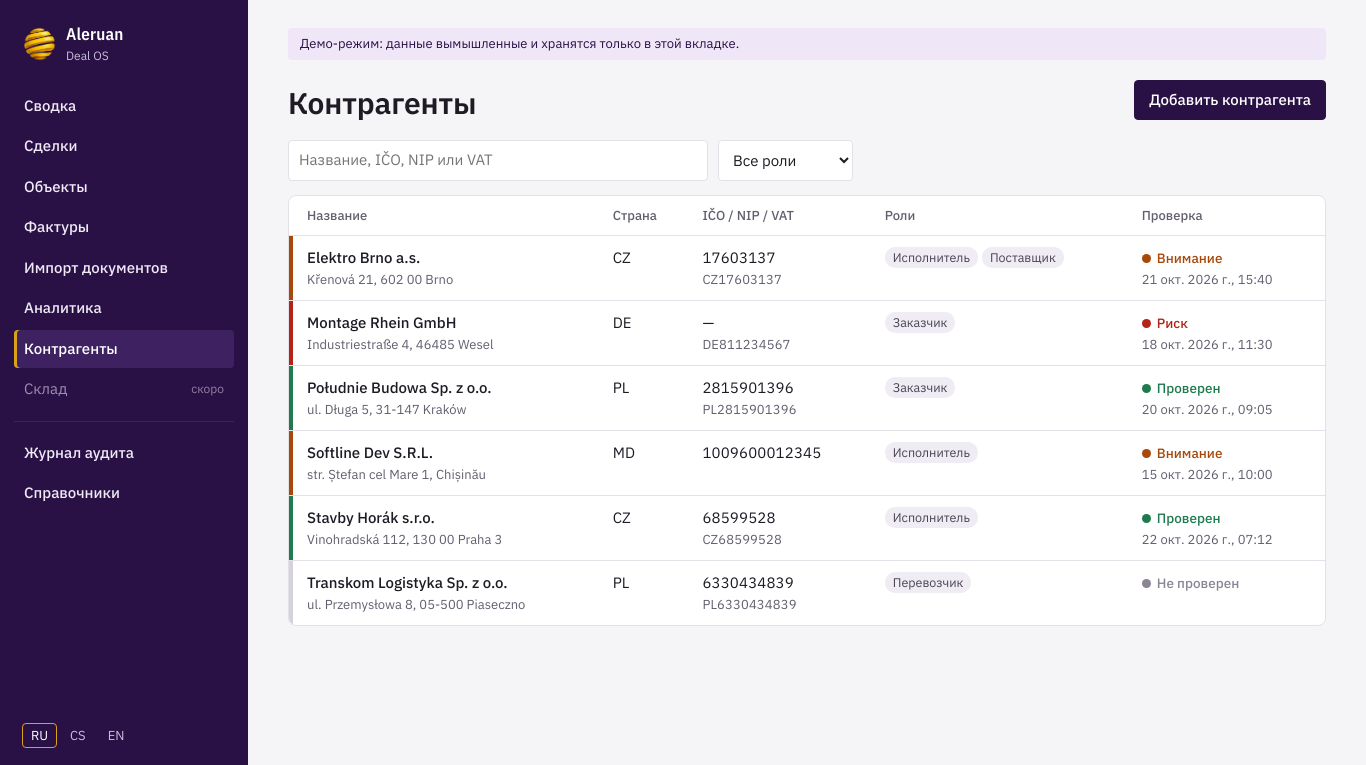
app screens on demo data › detail: runs a check and an account check, both land in history
Click the link "Stavby Horák s.r.o." at (371, 518), box [307, 508, 435, 527]
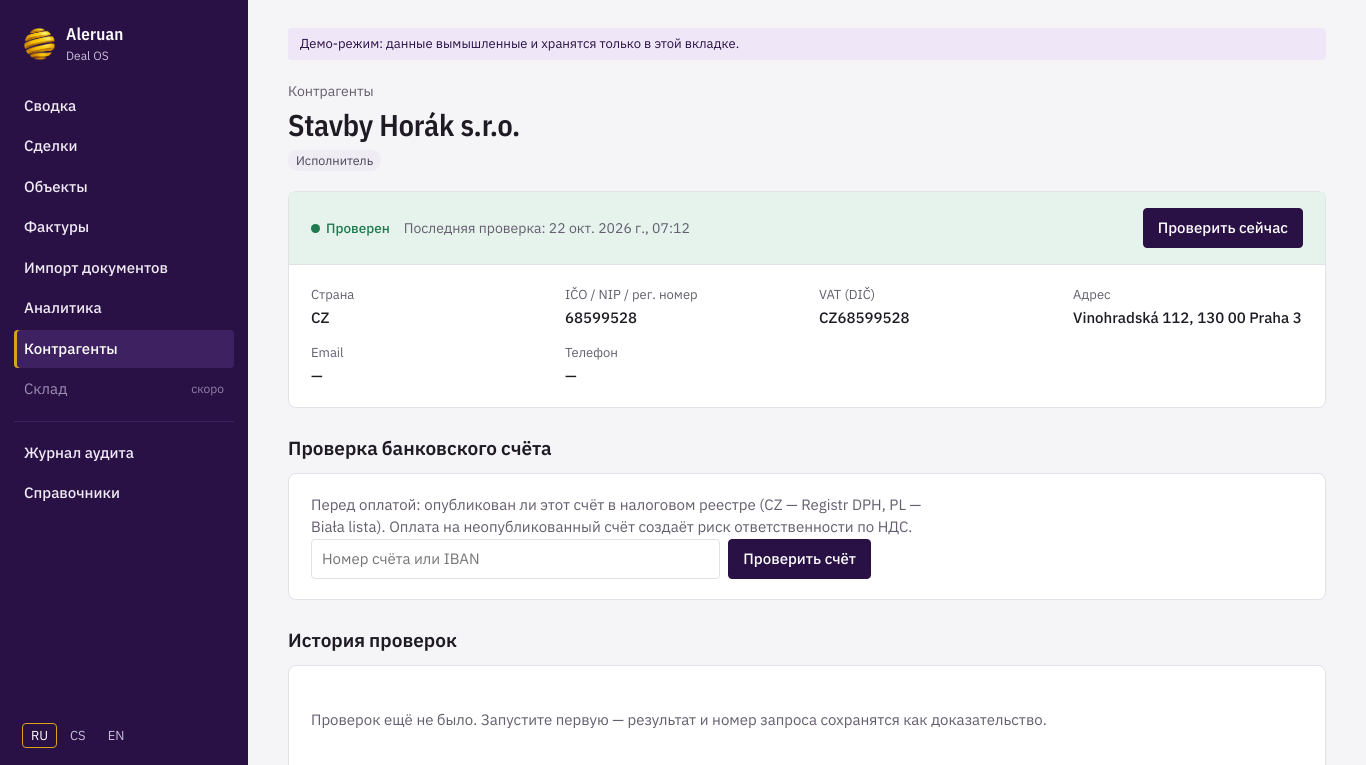
Click the button "Проверить сейчас" at (1223, 228), box [1143, 208, 1303, 248]
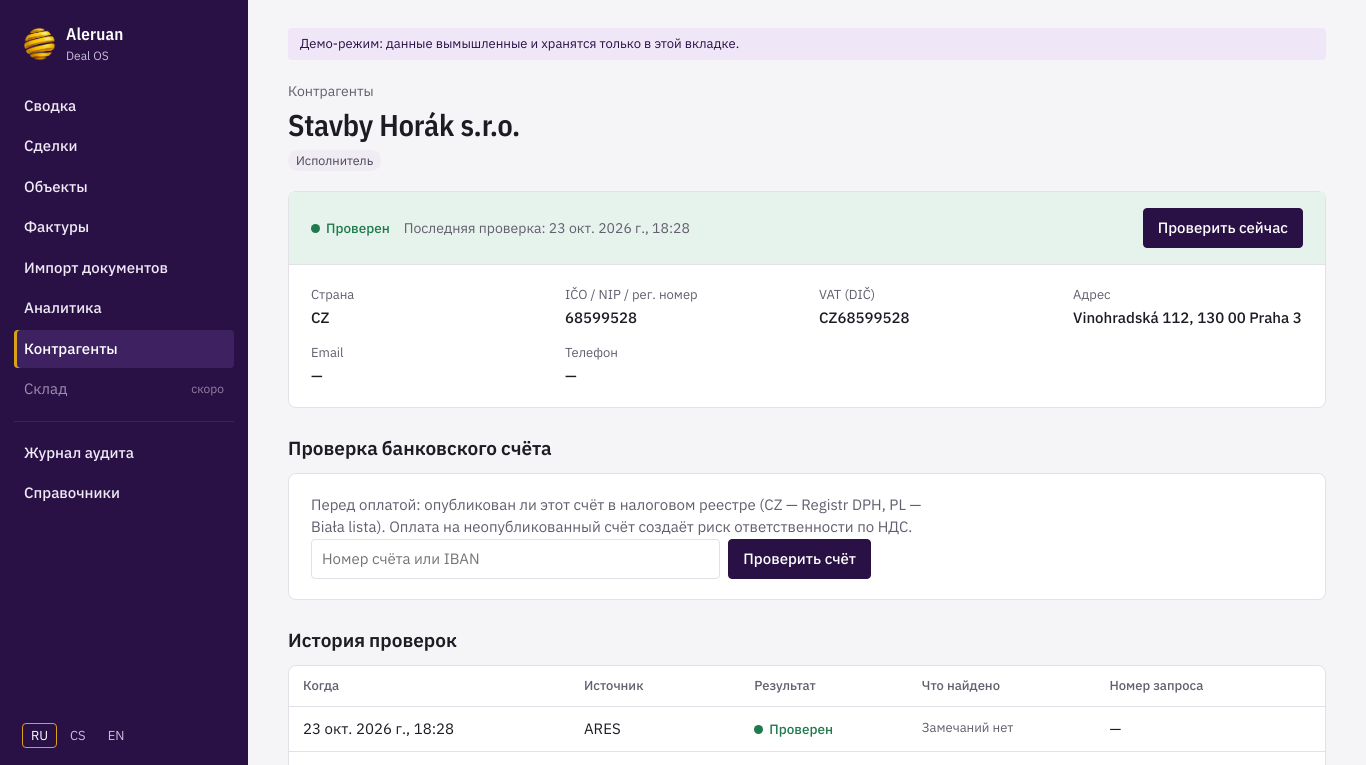
Type "999-1/0100" into the field labelled "Номер счёта или IBAN" at (516, 559), box [311, 539, 720, 579]
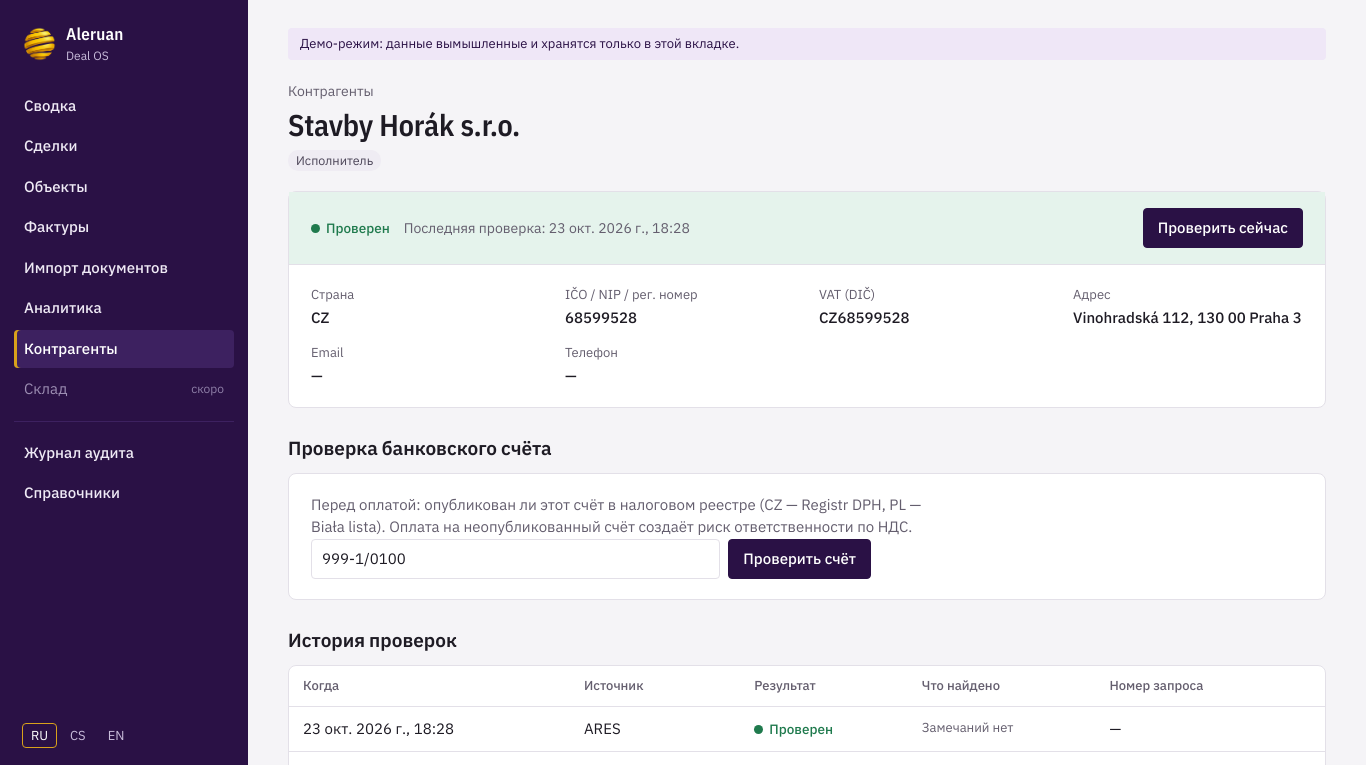
Click the button "Проверить счёт" at (800, 559), box [728, 539, 871, 579]
(page scrolled)
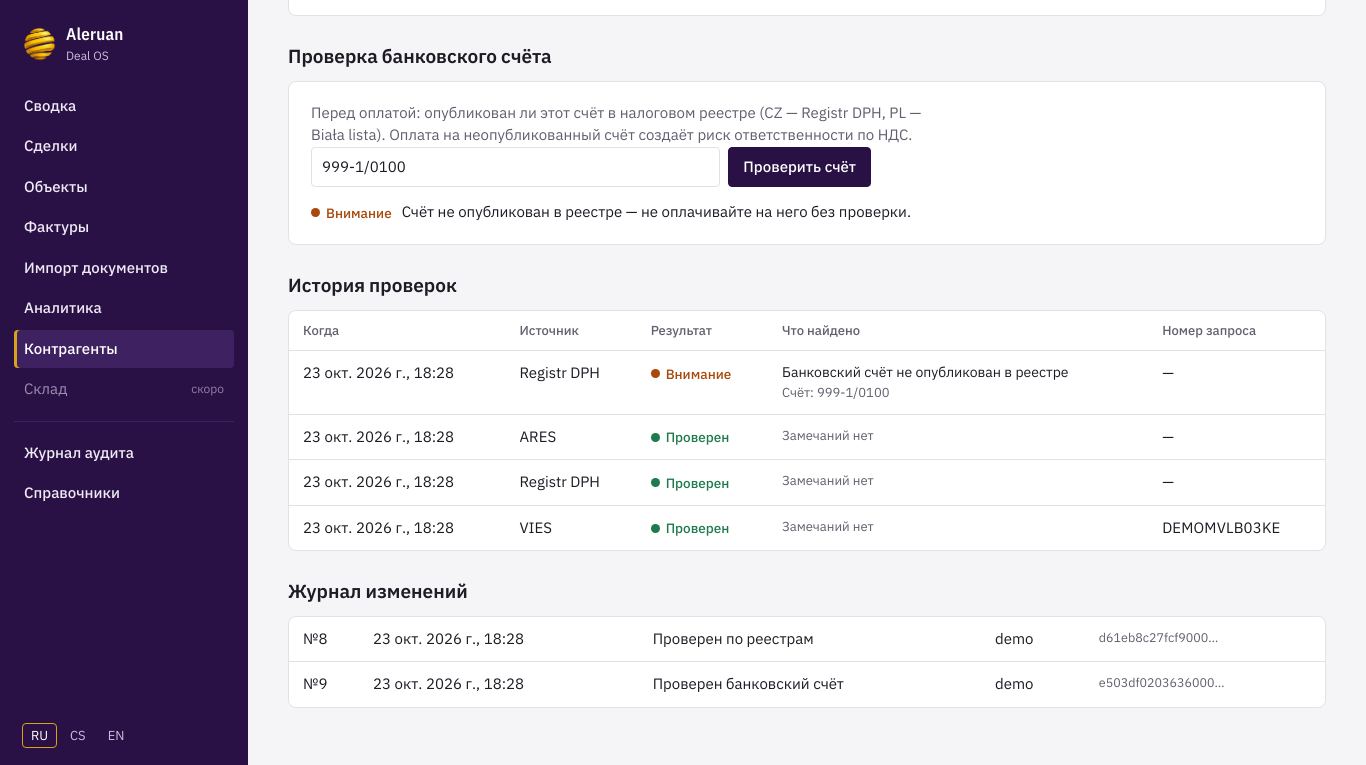
Result: the text "Счёт не опубликован в реестре — не оплачивайте на него без проверки." is shown at [402, 202, 911, 221]
Result: the text "Счёт: 999-1/0100" is shown at [782, 384, 890, 401]
